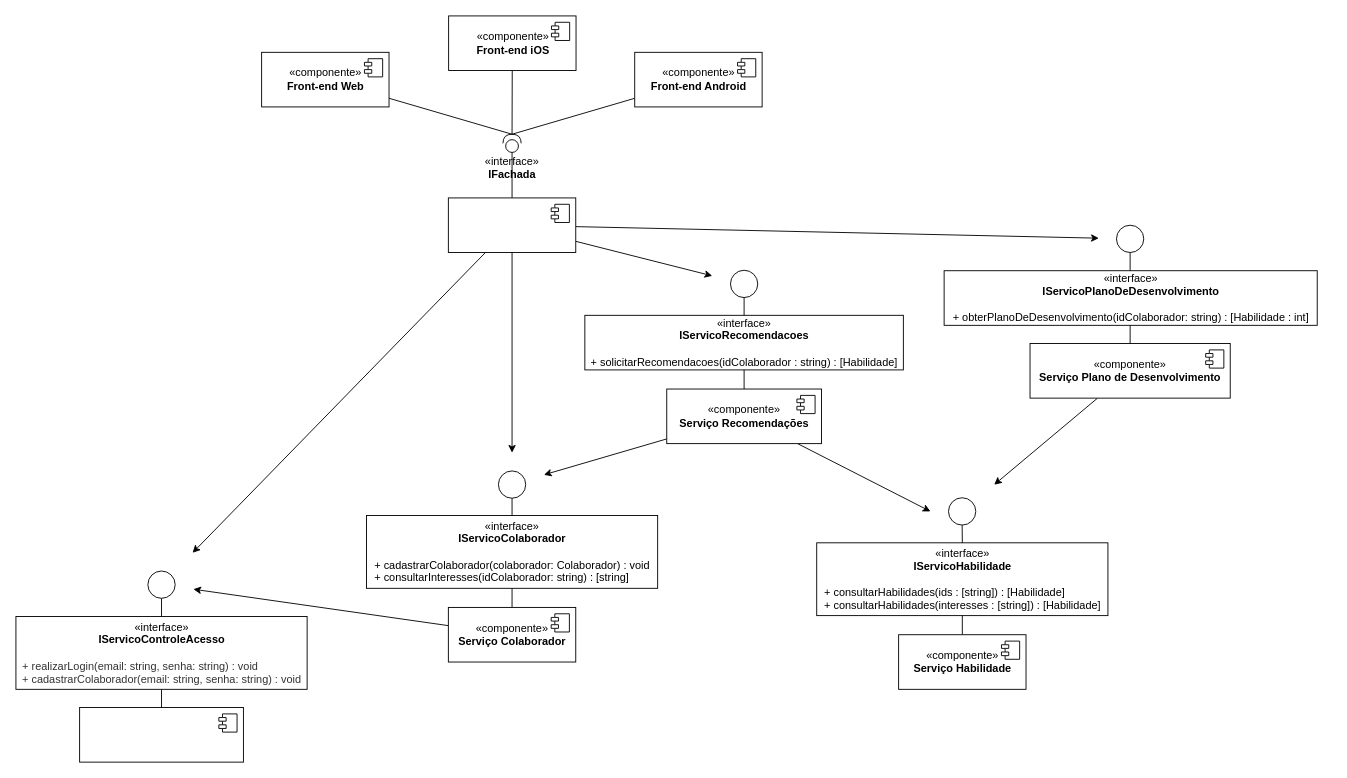
Image size: 1347x778. Some labels were removed from this diagram. Each missing label, with the centre of its shape:
"«componente» Fachada" belongs at point 511,225.
"«componente» Serviço Controle de Acesso" belongs at point 161,734.
